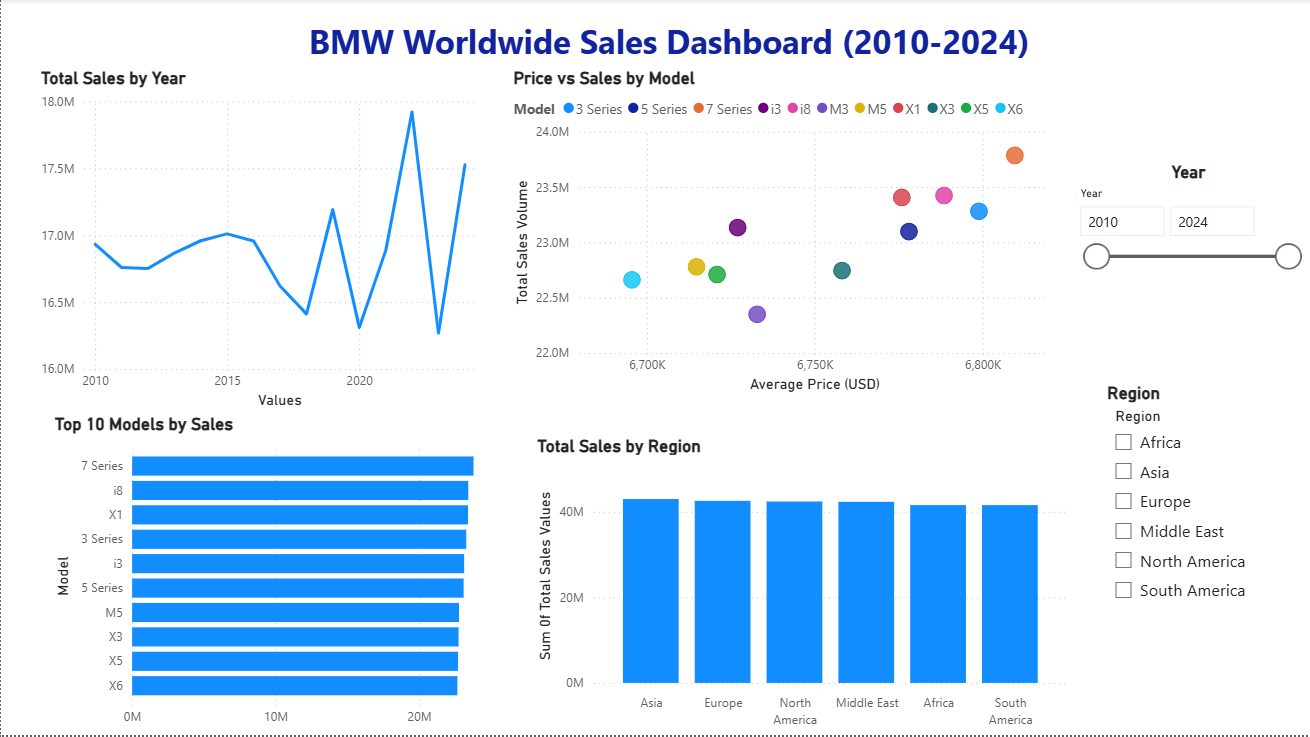

The dashboard page shown, as its layout file describes it:
{"tool":"powerbi","page":{"name":"Page 1","canvas":[1280,720],"ordinal":0},"visuals":[{"type":"columnChart","title":"Total Sales by Region","fields":{"Y":["Sum(bmw_analysis_for_bi.Total_Sales_Volume)"],"Category":["bmw_analysis_for_bi.Region"]},"box":[519.7,426.8,529.5,293.5],"z":1000},{"type":"barChart","title":"Top 10 Models by Sales","fields":{"Y":["Sum(bmw_analysis_for_bi.Total_Sales_Volume)"],"Category":["bmw_analysis_for_bi.Model"]},"box":[47.7,406,448.8,314.3],"z":2000},{"type":"scatterChart","title":"Price vs Sales by Model","fields":{"X":["Sum(bmw_analysis_for_bi.Average_Price_USD)"],"Y":["Sum(bmw_analysis_for_bi.Total_Sales_Volume)"],"Series":["bmw_analysis_for_bi.Model"]},"box":[496.5,67.3,552.7,322.8],"z":3000},{"type":"slicer","title":"Year","fields":{"Values":["bmw_analysis_for_bi.Year"]},"box":[1043.1,159,237.2,139.4],"z":4000},{"type":"slicer","title":"Region","fields":{"Values":["bmw_analysis_for_bi.Region"]},"box":[1077.3,375.4,170,253.1],"z":5000},{"type":"textbox","box":[271.5,14.7,764.3,52.6],"z":6000},{"type":"lineChart","title":"Total Sales by Year","fields":{"Y":["Sum(bmw_analysis_for_bi.Total_Sales_Volume)"],"Category":["bmw_analysis_for_bi.Year"]},"box":[34.2,67.3,437.8,338.7],"z":6001}]}

Visuals, with their boxes in screenshot pixels (x1, y1, x2, y2), scaled from the page's 1280x720 canvas onto the 1310x737 screenshot:
"Total Sales by Region" columnChart: pyautogui.locateOnScreen(532, 437, 1074, 736)
"Top 10 Models by Sales" barChart: pyautogui.locateOnScreen(49, 416, 508, 736)
"Price vs Sales by Model" scatterChart: pyautogui.locateOnScreen(508, 69, 1074, 399)
"Year" slicer: pyautogui.locateOnScreen(1068, 163, 1309, 305)
"Region" slicer: pyautogui.locateOnScreen(1103, 384, 1277, 643)
textbox: pyautogui.locateOnScreen(278, 15, 1060, 69)
"Total Sales by Year" lineChart: pyautogui.locateOnScreen(35, 69, 483, 416)
